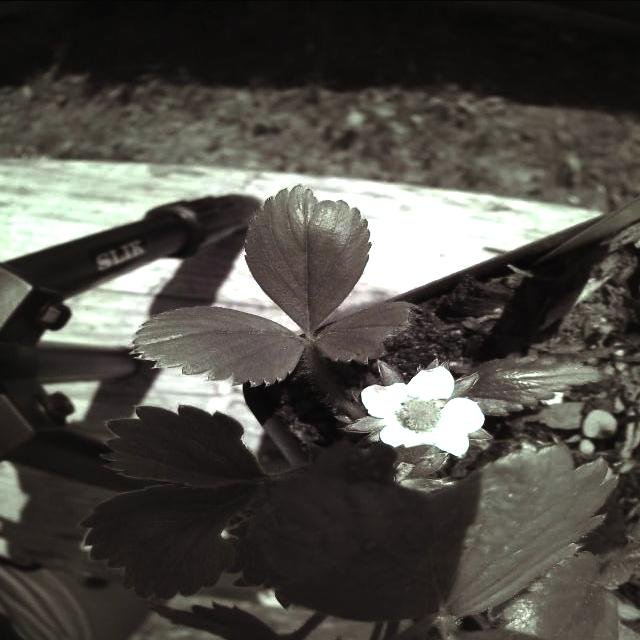flower: (358, 359, 493, 458)
